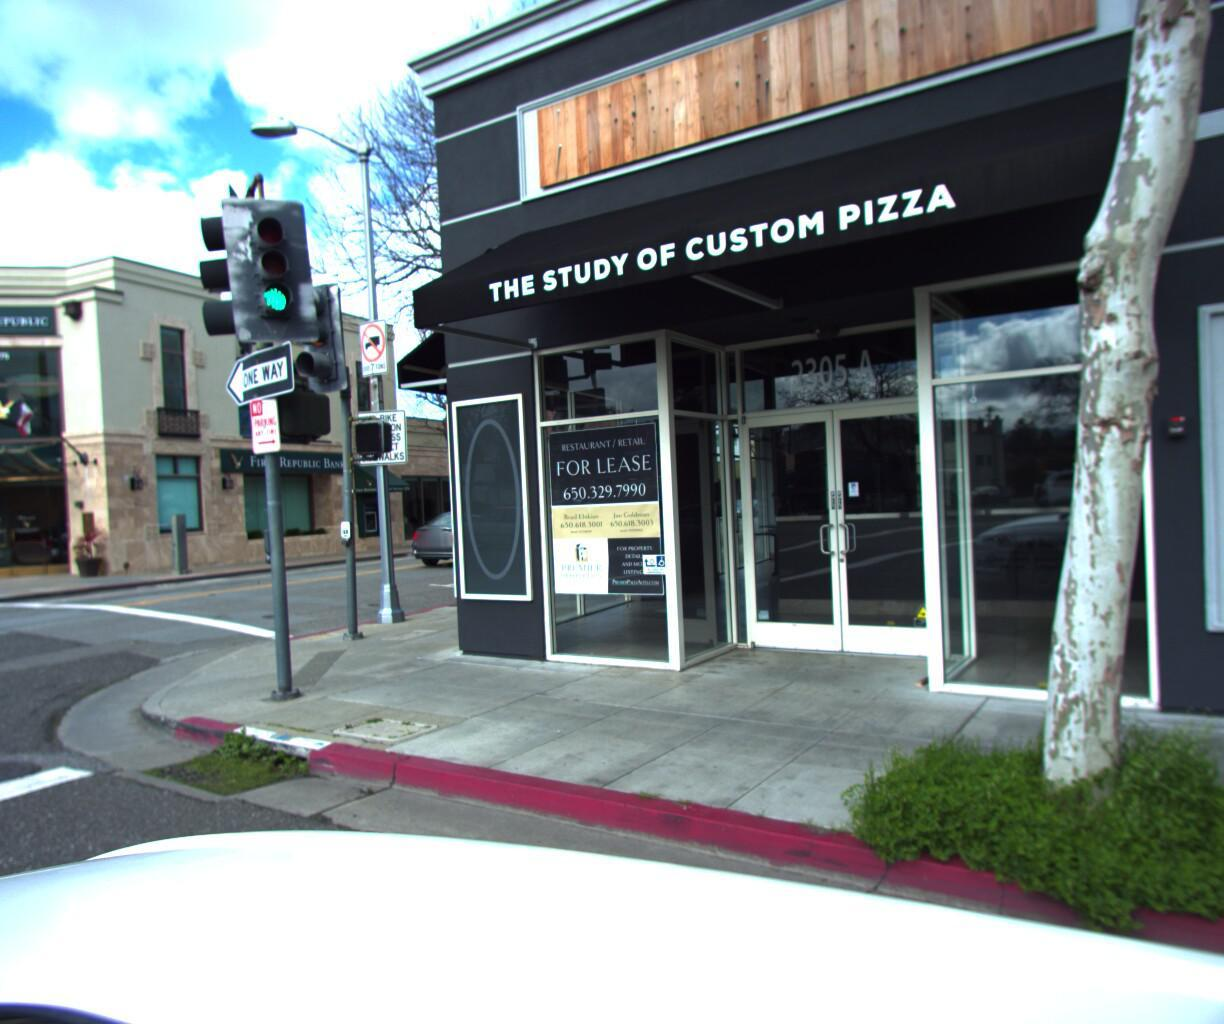car: (402, 508, 547, 574)
